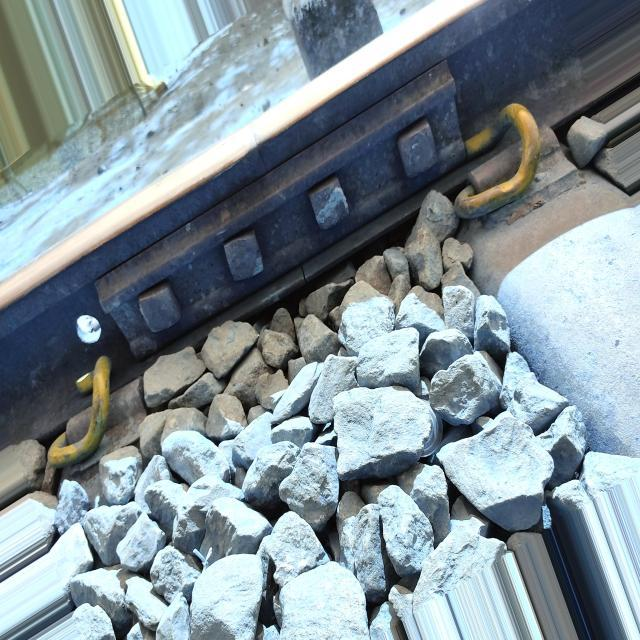Good Fasteners: (440, 89, 582, 243), (28, 357, 143, 471)
Good Joint: (98, 63, 465, 376)
